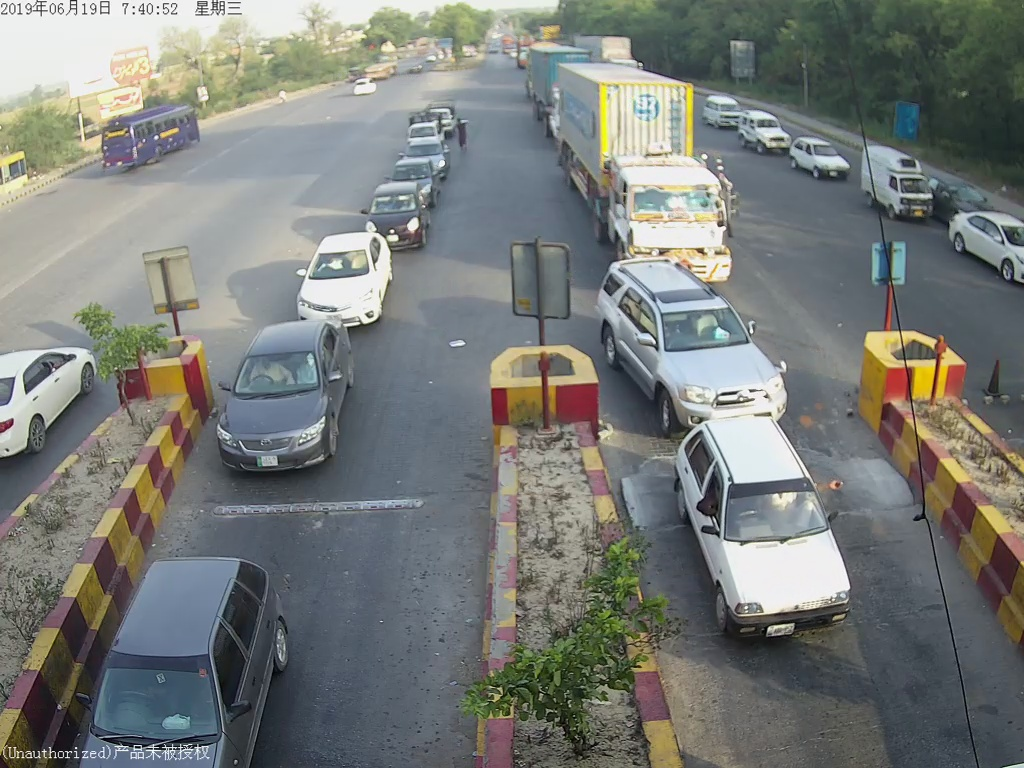Cat-1: (678, 422, 867, 651), (611, 263, 797, 417), (216, 329, 360, 464), (287, 232, 392, 320)
Cat-5: (551, 71, 746, 256)
